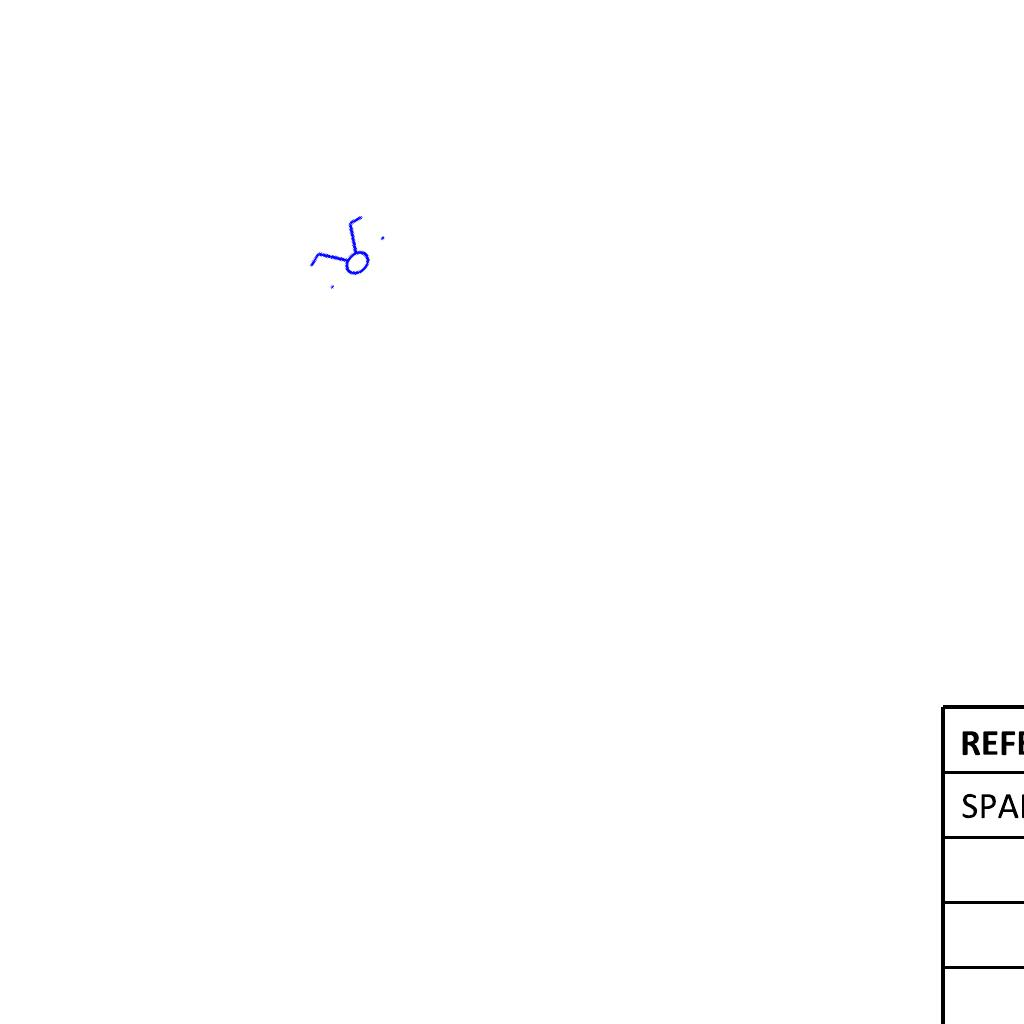Serienschalter: (301, 207, 395, 301)
